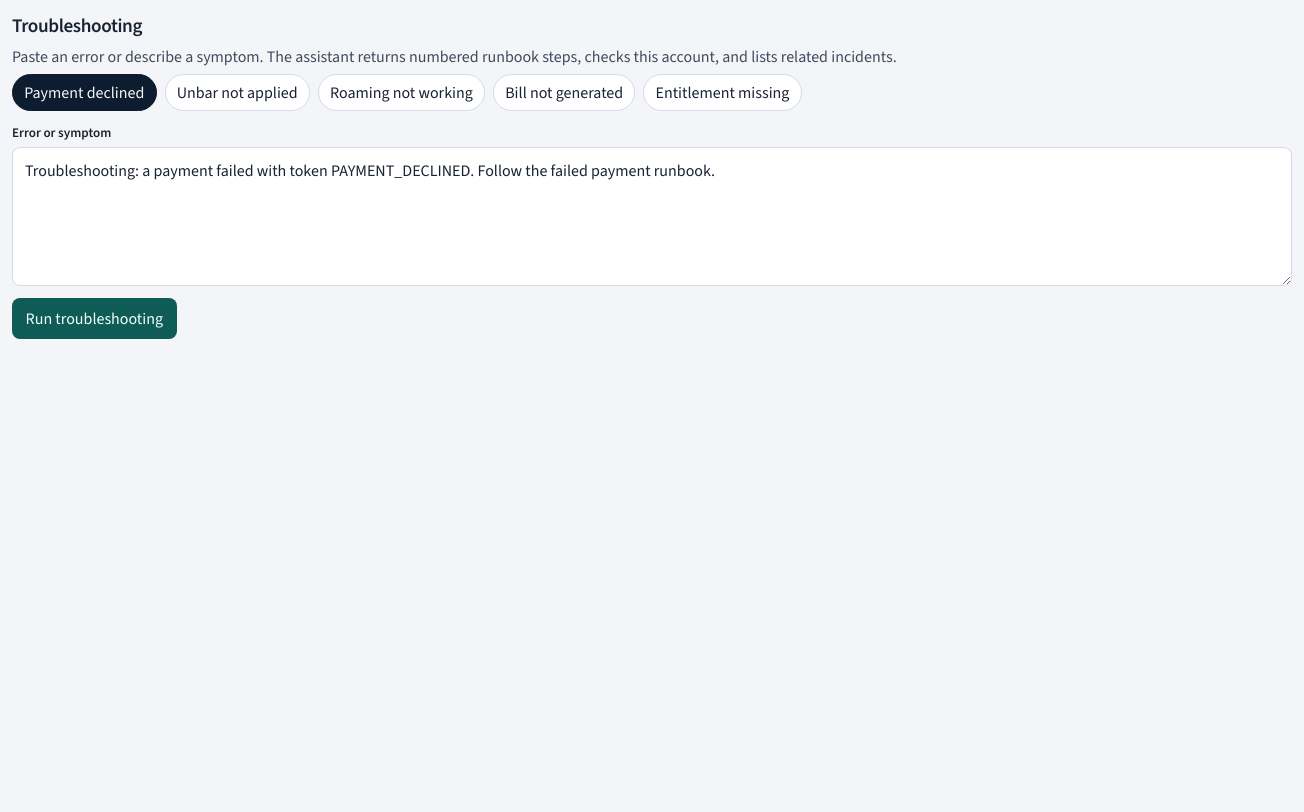
Test: shared controls › renders troubleshooting as steps, citations, and check summaries
This screenshot has width=1304, height=812.
Expected: the button "Entitlement missing" is shown, 643,74 -> 802,111
Click the button "Run troubleshooting".
click(94, 318)  # box 12,298 -> 177,339
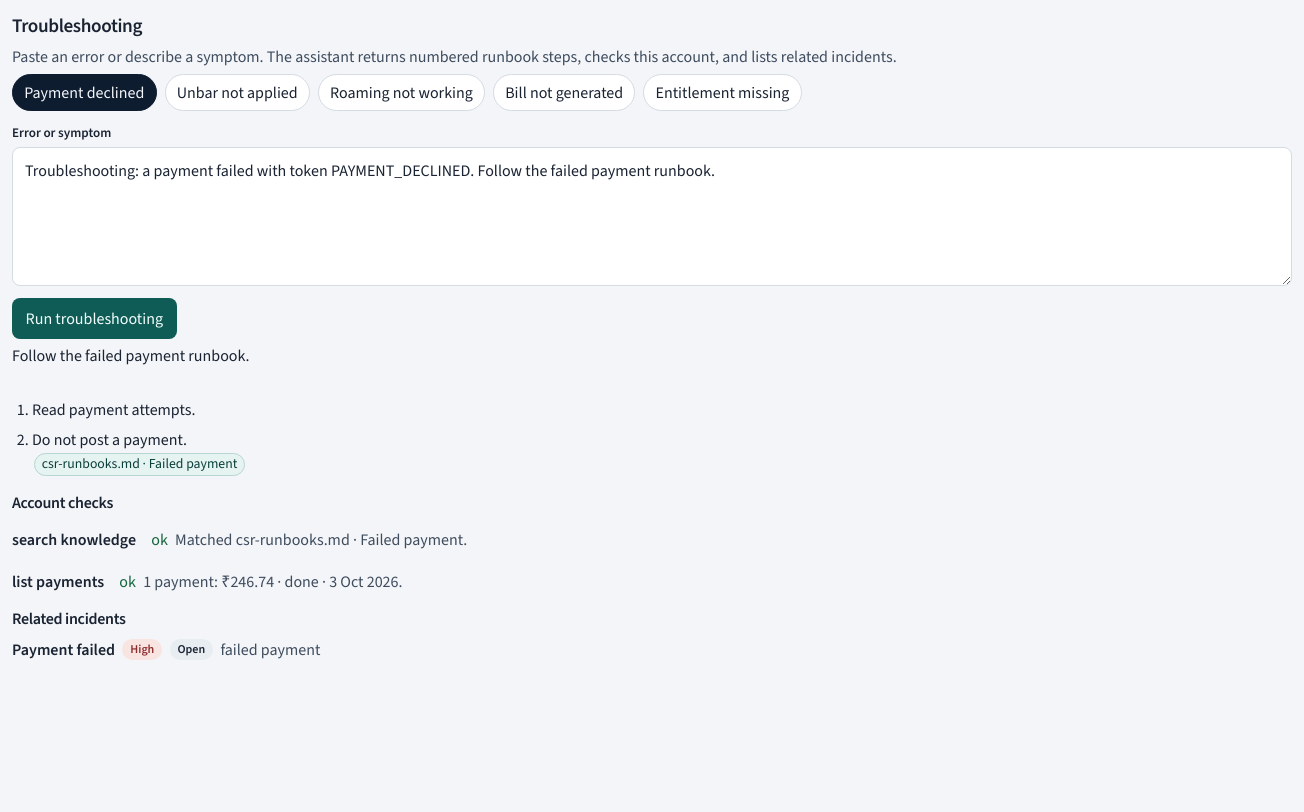
Now the text "Read payment attempts." is shown, box 32,399 -> 195,420
Now the button "csr-runbooks.md · Failed payment" is shown, box 34,453 -> 245,476
Now the text "Matched csr-runbooks.md · Failed payment." is shown, box 175,528 -> 467,551
